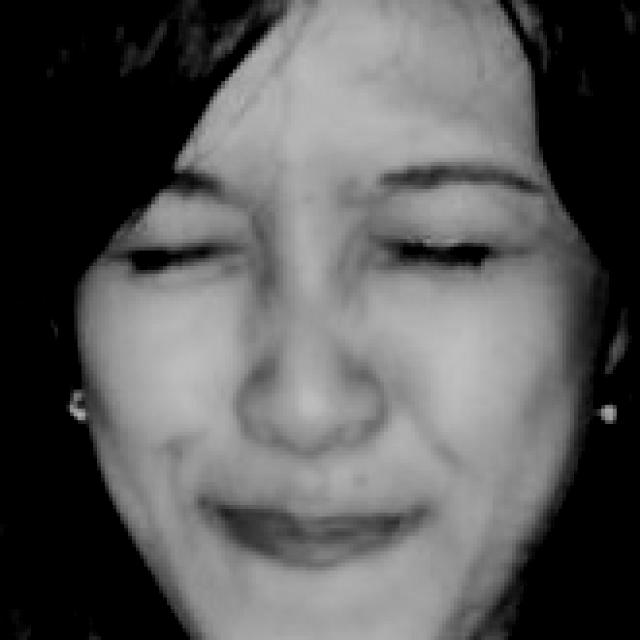real: (54, 2, 576, 613), (76, 168, 557, 296)
